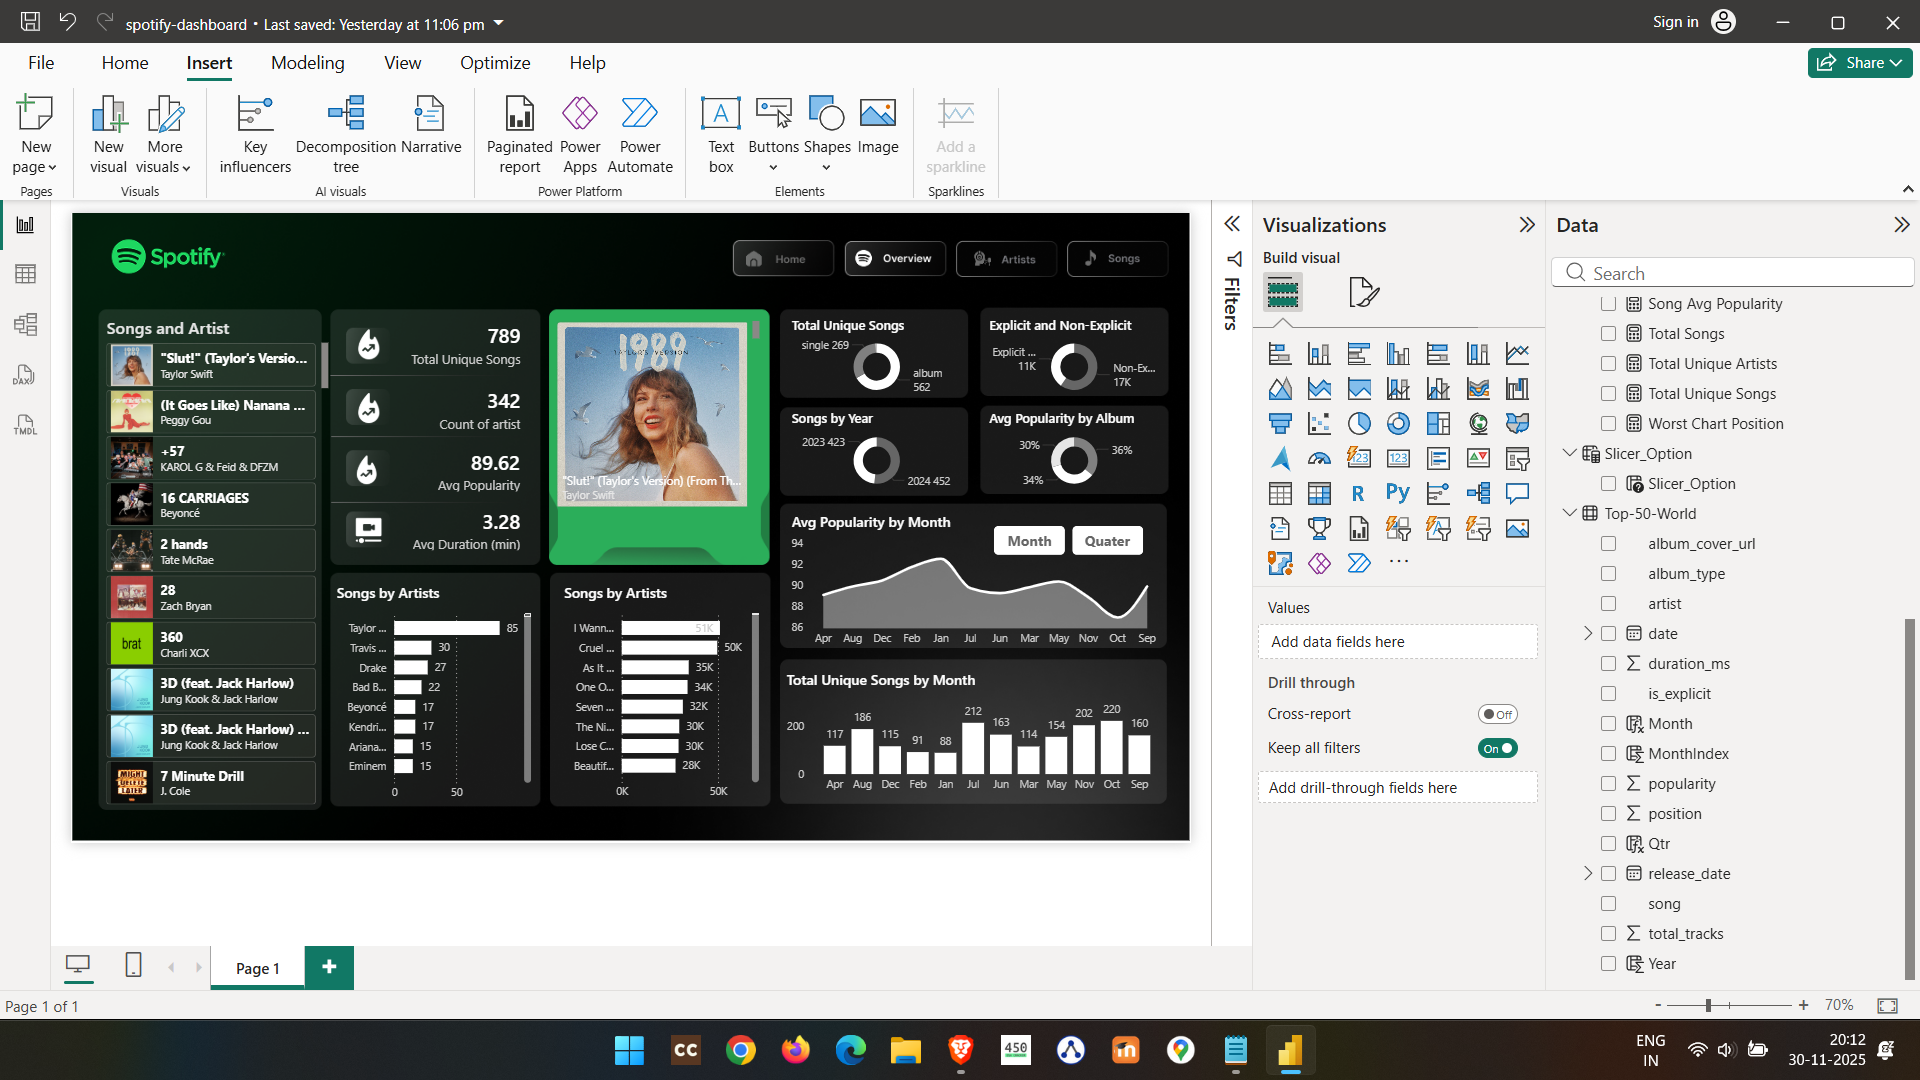

The dashboard page shown, as its layout file describes it:
{"tool":"powerbi","page":{"name":"Page 1","canvas":[1280,720],"ordinal":0},"visuals":[{"type":"clusteredBarChart","title":"Songs by Artists","fields":{"Category":["Top-50-World.song"],"Y":["Sum(Top-50-World.popularity)"]},"box":[558.6,423.5,232.8,257],"z":0},{"type":"clusteredBarChart","title":"Songs by Artists","fields":{"Y":["_Measures.Total Unique Songs"],"Category":["Top-50-World.artist"]},"box":[298.8,422.5,232.5,257.5],"z":1000},{"type":"areaChart","fields":{"Category":["Top-50-World.Month","Top-50-World.Qtr"],"Y":["_Measures.Avg Popularity"]},"box":[818.8,341.2,430,162.5],"z":2000},{"type":"donutChart","title":"Total Unique Songs","fields":{"Category":["Top-50-World.album_type"],"Y":["_Measures.Total Unique Songs"]},"box":[818.8,117.5,205,97.5],"z":3000},{"type":"donutChart","title":"Explicit and Non-Explicit","fields":{"Y":["_Measures.Non-Explicit Songs","_Measures.Explicit Songs"]},"box":[1043.8,117.5,205,97.5],"z":4000},{"type":"donutChart","title":"Songs by Year","fields":{"Y":["_Measures.Total Unique Songs"],"Category":["Top-50-World.Year"]},"box":[818.8,223.8,205,97.5],"z":5000},{"type":"donutChart","title":"Avg Popularity by Album ","fields":{"Category":["Top-50-World.album_type"],"Y":["_Measures.Avg Popularity"]},"box":[1043.8,223.8,205,97.5],"z":6000},{"type":"advancedSlicerVisual","fields":{"Values":["Slicer_Option.Slicer_Option"]},"box":[1050,353.3,181.1,43.3],"z":7000},{"type":"clusteredColumnChart","fields":{"Category":["Top-50-World.Month","Top-50-World.Qtr"],"Y":["_Measures.Total Unique Songs"]},"box":[813.3,521.1,438.9,150],"z":8000},{"type":"cardVisual","fields":{"Data":["_Measures.Total Unique Songs"]},"box":[352.9,102.9,190,94.3],"z":9000},{"type":"cardVisual","fields":{"Data":["Count(Top-50-World.artist)"]},"box":[352.9,184.3,190,80],"z":10000},{"type":"cardVisual","fields":{"Data":["_Measures.Avg Popularity"]},"box":[367.1,254.3,175.7,81.4],"z":11000},{"type":"cardVisual","fields":{"Data":["_Measures.Avg Duration (min)"]},"box":[311.4,321.4,231.4,81.4],"z":12000},{"type":"image","box":[318.5,345.4,43.1,34.6],"z":13000},{"type":"image","box":[318.8,205,43.1,35.6],"z":14000},{"type":"image","box":[323.8,277.1,37.6,32.9],"z":15000},{"type":"image","box":[315,135.9,43.2,34.5],"z":16000},{"type":"advancedSlicerVisual","title":"Songs and Artist","fields":{"Values":["Top-50-World.song"]},"box":[35,118.3,263.3,563.3],"z":17000},{"type":"advancedSlicerVisual","title":"Songs and Artist","fields":{"Values":["Top-50-World.song"]},"box":[554.3,111.4,241.4,222.9],"z":18000}]}

Visuals, with their boxes on the page's 1280x720 design canvas (x1, y1, x2, y2). These are canvas units, not pixel positions in the 1920x1080 screenshot, which may show the page scaled, cropped or inside an application window:
"Songs by Artists" clusteredBarChart: {"x1": 559, "y1": 424, "x2": 791, "y2": 680}
"Songs by Artists" clusteredBarChart: {"x1": 299, "y1": 422, "x2": 531, "y2": 680}
areaChart - Top-50-World.Month x Top-50-World.Qtr: {"x1": 819, "y1": 341, "x2": 1249, "y2": 504}
"Total Unique Songs" donutChart: {"x1": 819, "y1": 118, "x2": 1024, "y2": 215}
"Explicit and Non-Explicit" donutChart: {"x1": 1044, "y1": 118, "x2": 1249, "y2": 215}
"Songs by Year" donutChart: {"x1": 819, "y1": 224, "x2": 1024, "y2": 321}
"Avg Popularity by Album " donutChart: {"x1": 1044, "y1": 224, "x2": 1249, "y2": 321}
advancedSlicerVisual - Slicer_Option.Slicer_Option: {"x1": 1050, "y1": 353, "x2": 1231, "y2": 397}
clusteredColumnChart - Top-50-World.Month x Top-50-World.Qtr: {"x1": 813, "y1": 521, "x2": 1252, "y2": 671}
cardVisual - _Measures.Total Unique Songs: {"x1": 353, "y1": 103, "x2": 543, "y2": 197}
cardVisual - Count(Top-50-World.artist): {"x1": 353, "y1": 184, "x2": 543, "y2": 264}
cardVisual - _Measures.Avg Popularity: {"x1": 367, "y1": 254, "x2": 543, "y2": 336}
cardVisual - _Measures.Avg Duration (min): {"x1": 311, "y1": 321, "x2": 543, "y2": 403}
image: {"x1": 318, "y1": 345, "x2": 362, "y2": 380}
image: {"x1": 319, "y1": 205, "x2": 362, "y2": 241}
image: {"x1": 324, "y1": 277, "x2": 361, "y2": 310}
image: {"x1": 315, "y1": 136, "x2": 358, "y2": 170}
"Songs and Artist" advancedSlicerVisual: {"x1": 35, "y1": 118, "x2": 298, "y2": 682}
"Songs and Artist" advancedSlicerVisual: {"x1": 554, "y1": 111, "x2": 796, "y2": 334}
